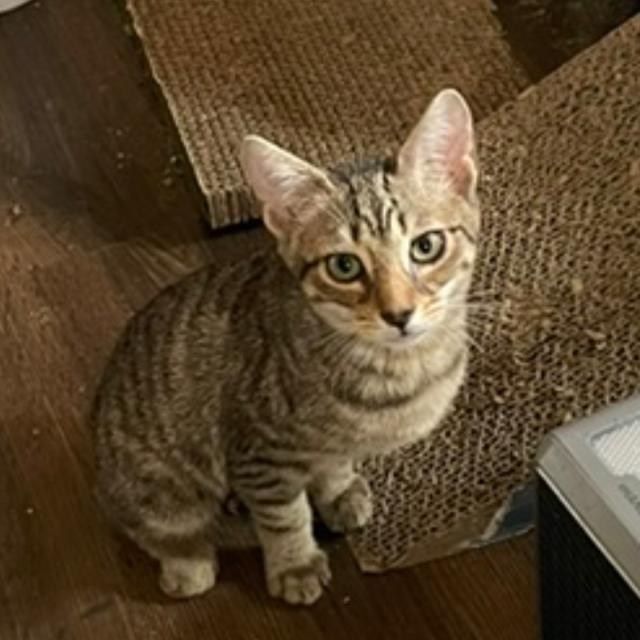manx_cat: (229, 85, 497, 379)
